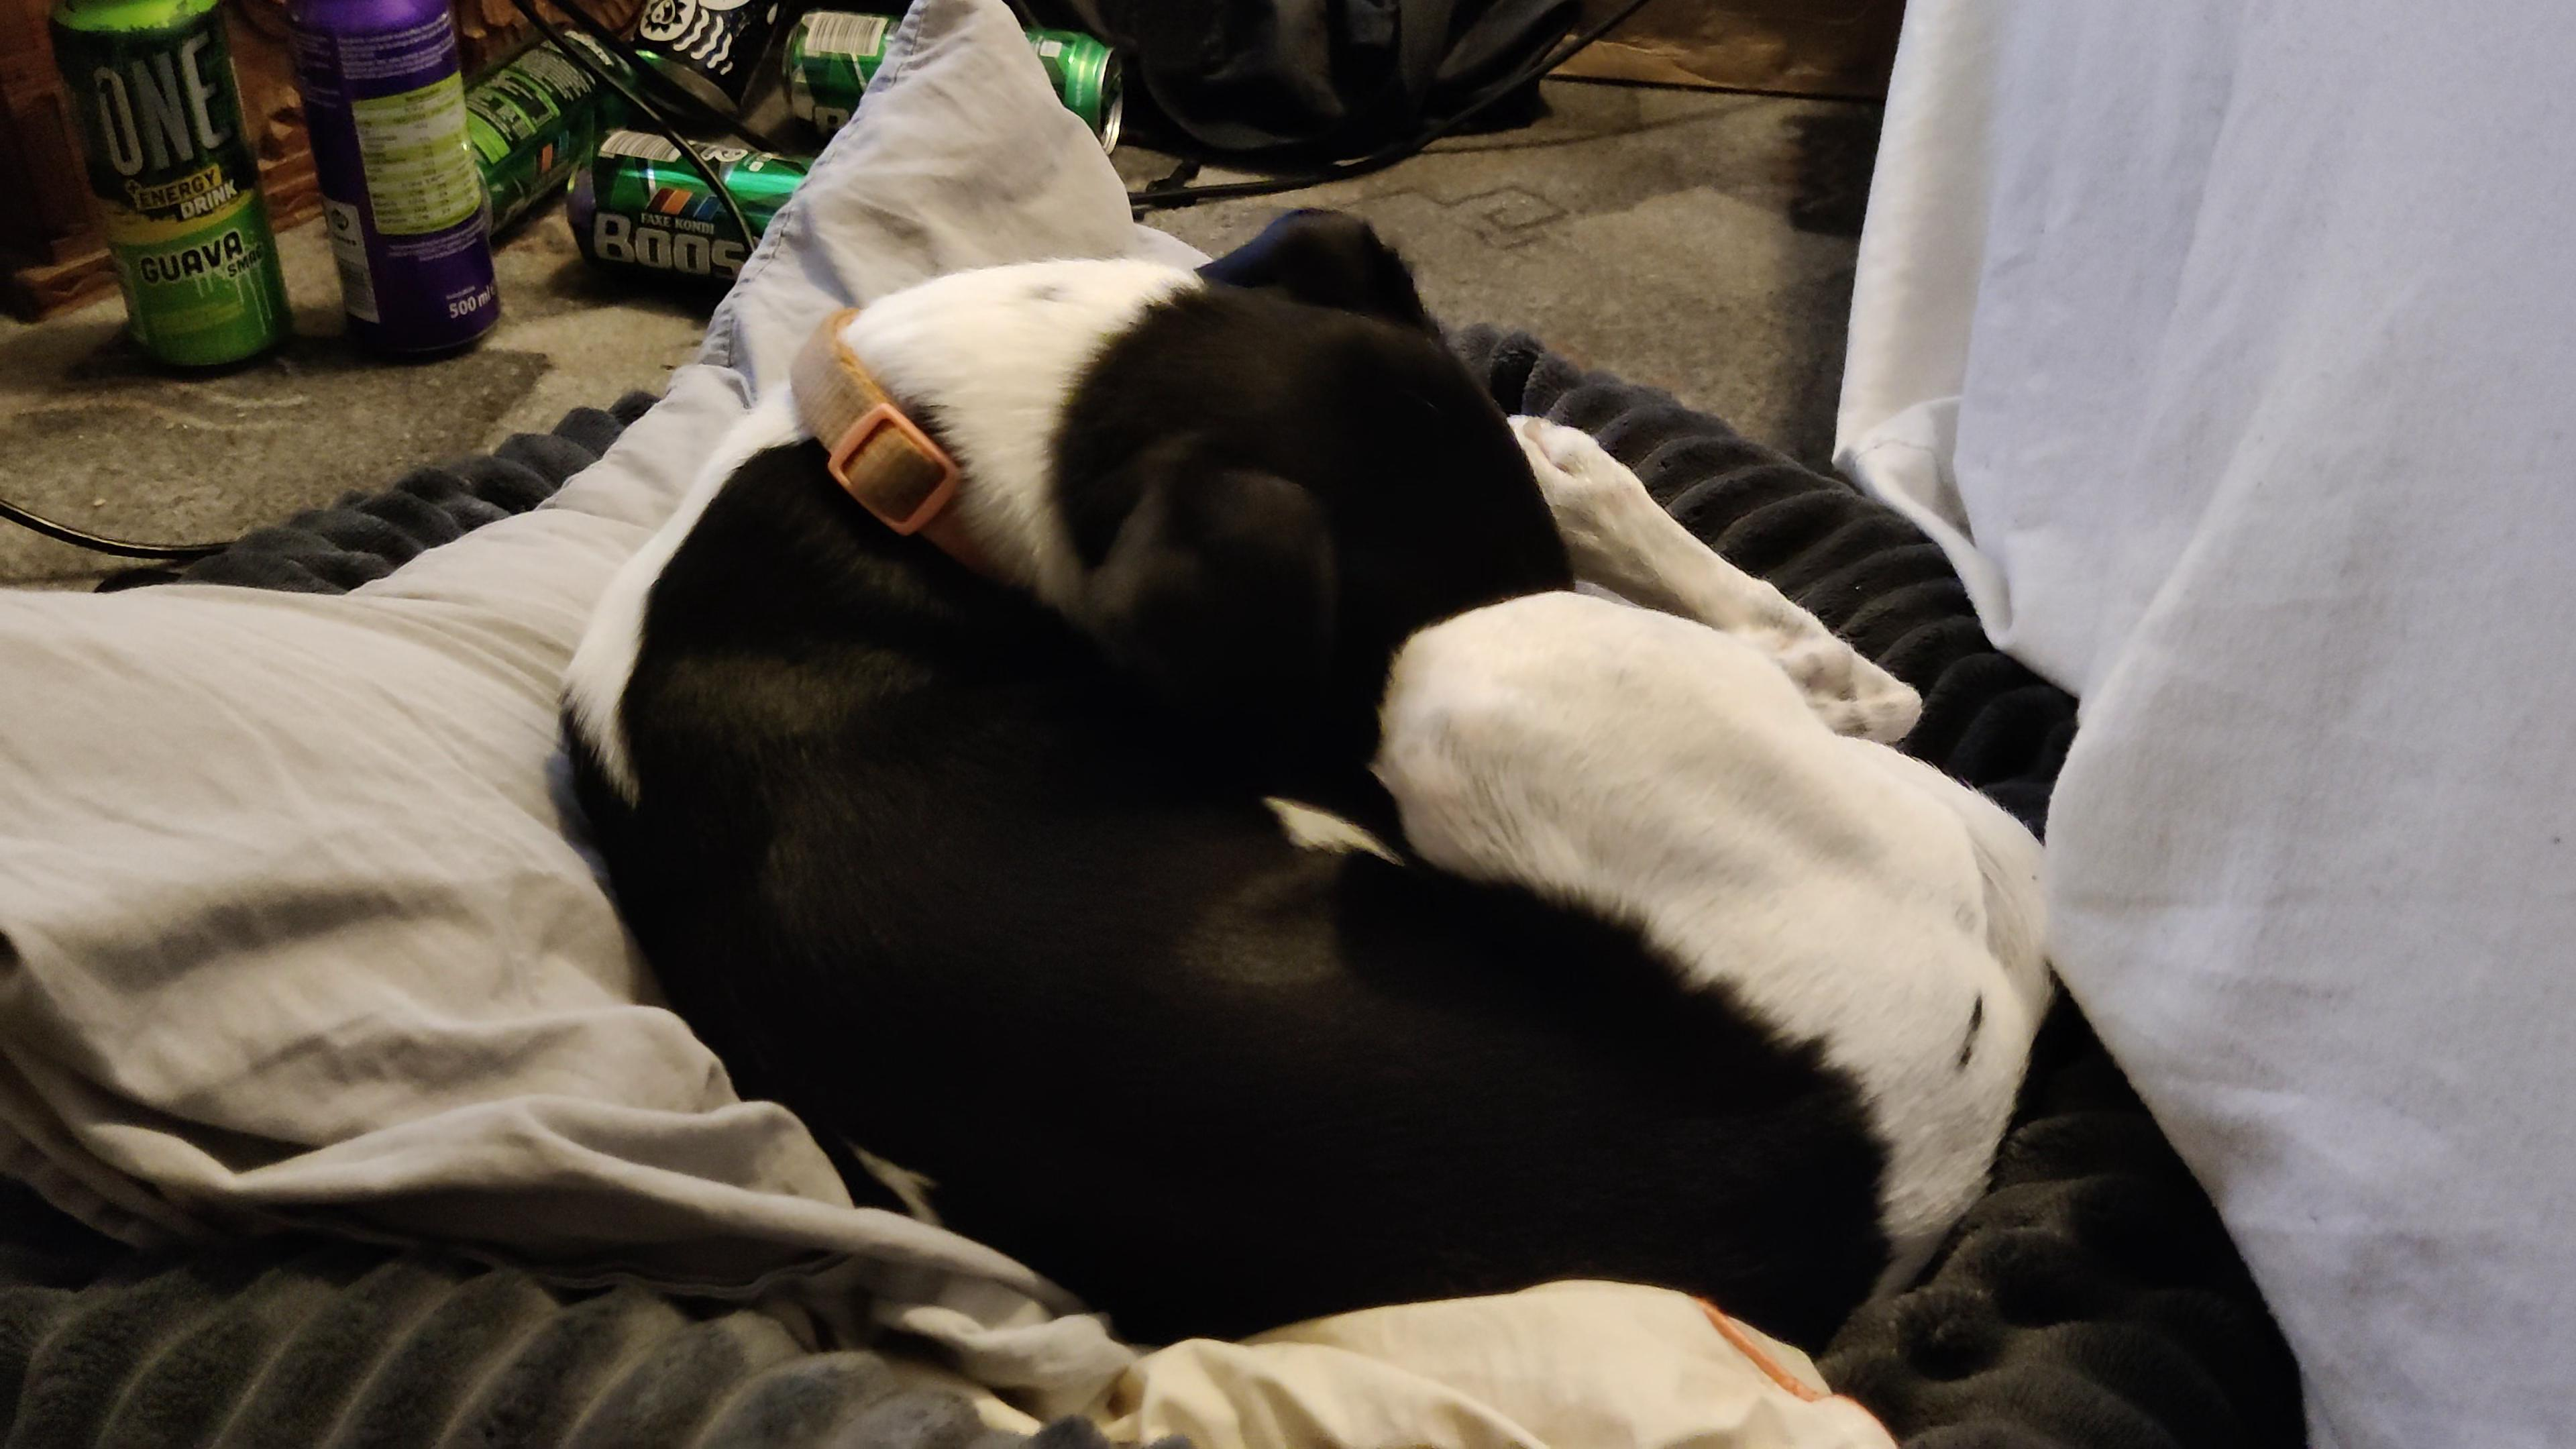Dog: (529, 198, 2107, 1398)
